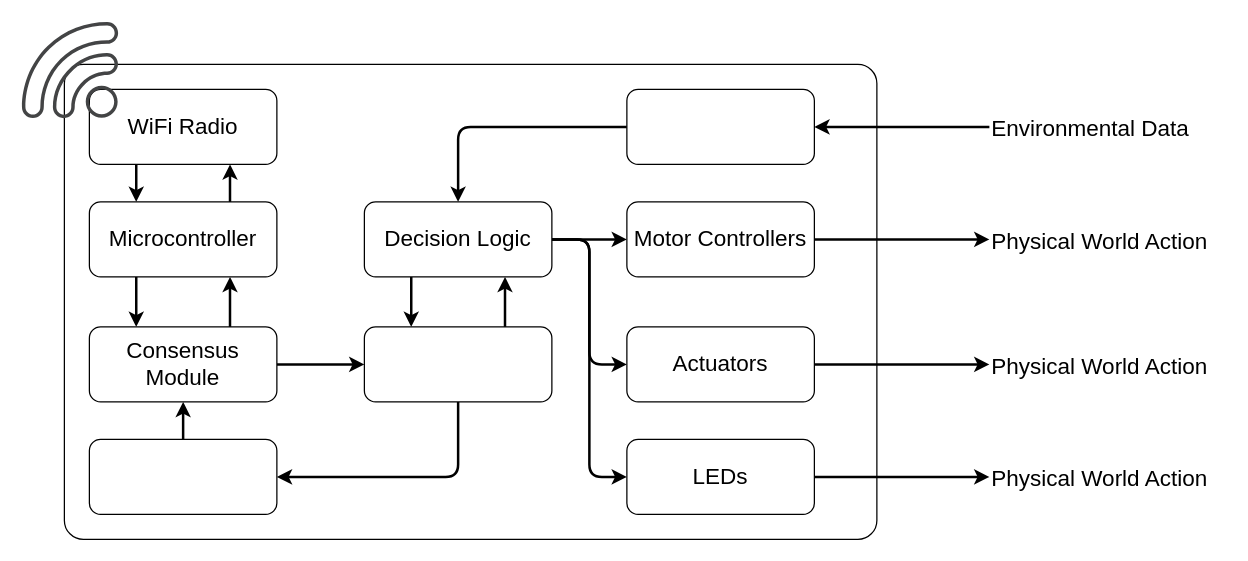
This 1248x561 diagram has some shape labels left out. The centre of each missing label's shape, as x and y in pixels:
Logs (Data): (457,364)
Sensors: (720,126)
State Machine: (182,476)
